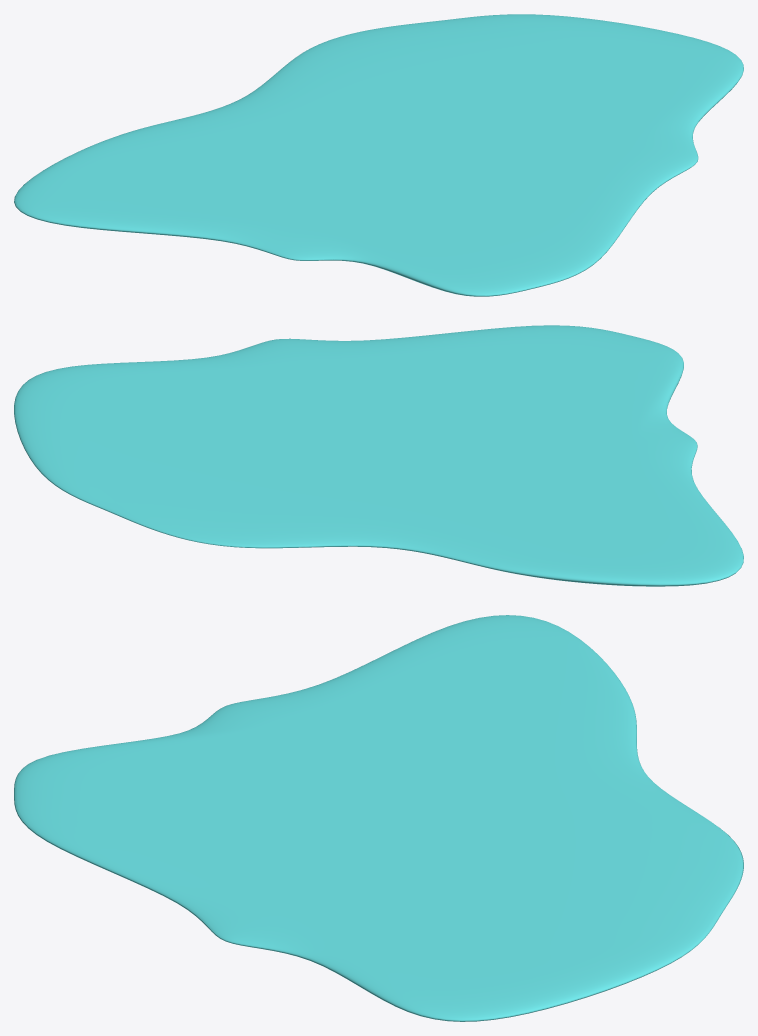
File: pond.fbx
The picture shows the model from 3 angles, top to bottom: view 1: azimuth 30°, elevation 25°; view 2: azimuth 150°, elevation 25°; view 3: azimuth 270°, elevation 25°; orthographic projection. The views are drawn at different scales.
Visible parts, largest first — view 1: Cube; view 2: Cube; view 3: Cube.
Part boxes in pixels (bbox=[...]): Cube: bbox=[14, 14, 743, 296]; Cube: bbox=[14, 325, 743, 586]; Cube: bbox=[14, 615, 743, 1021].
Size of the model in its own units: 829 by 10 by 630.
